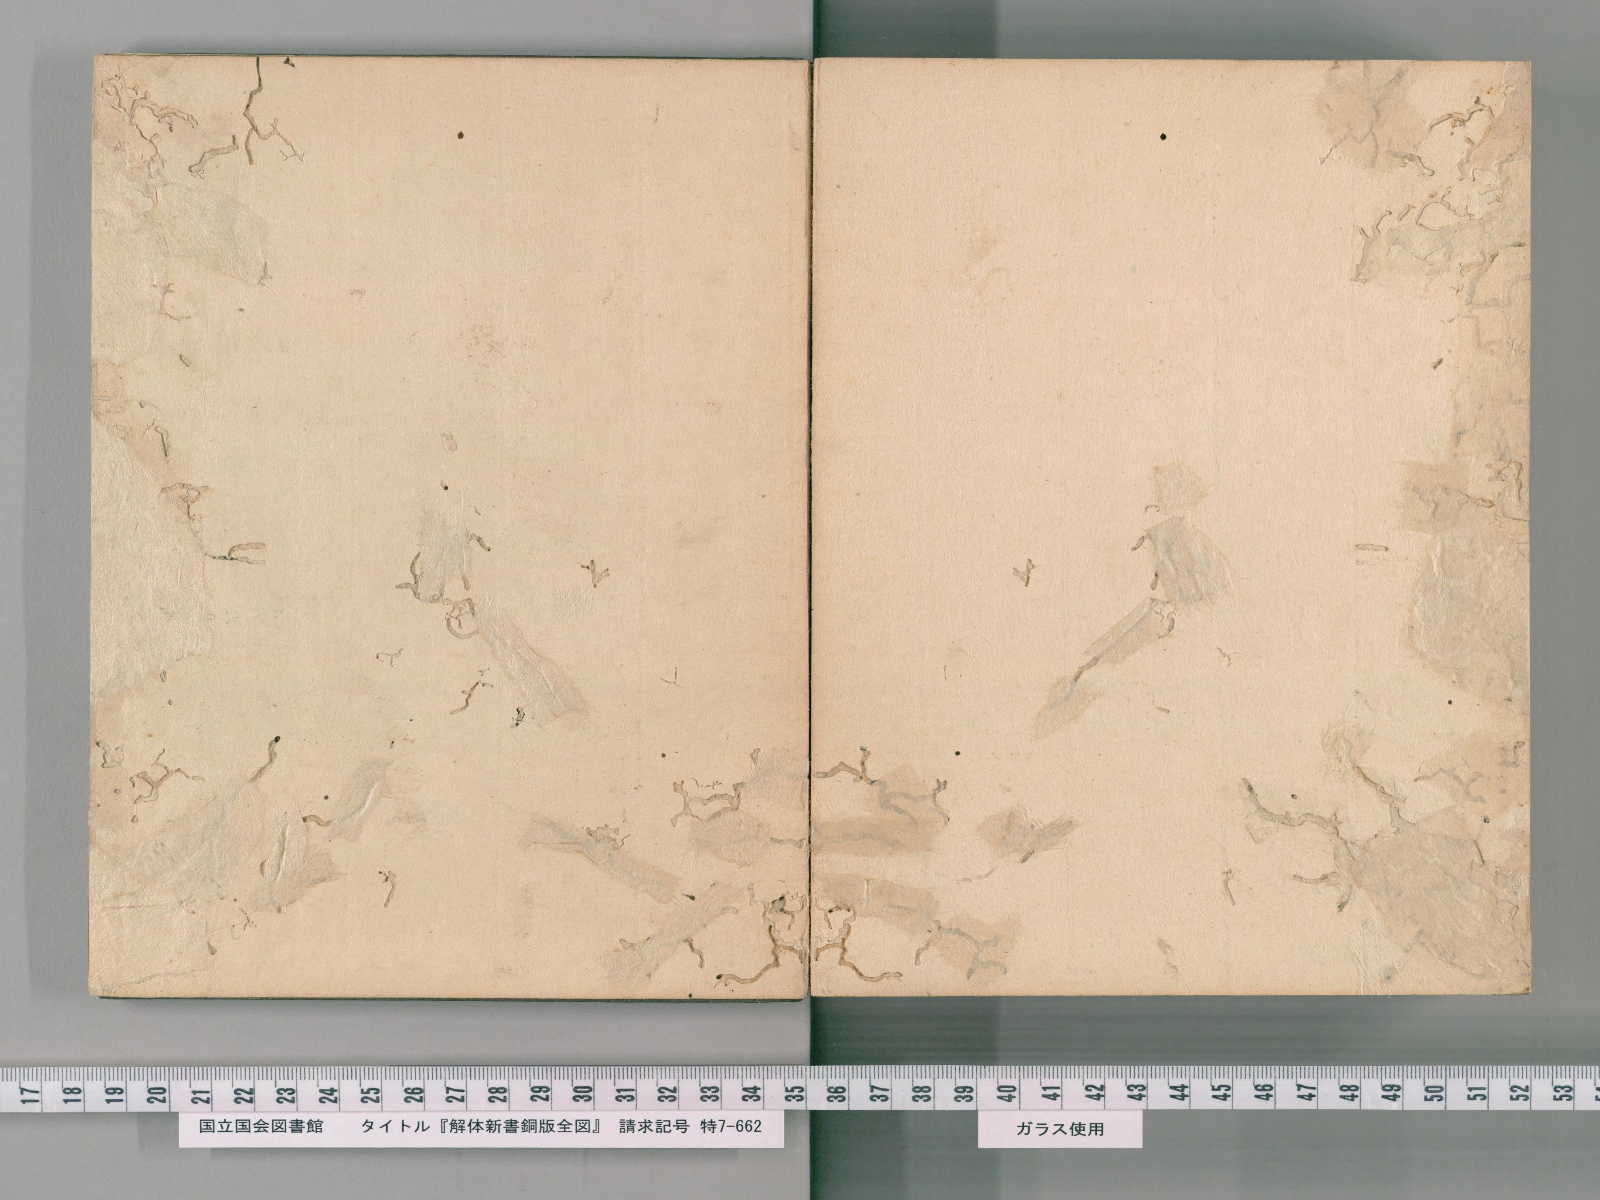1_overall: (91, 55, 1533, 1001)
